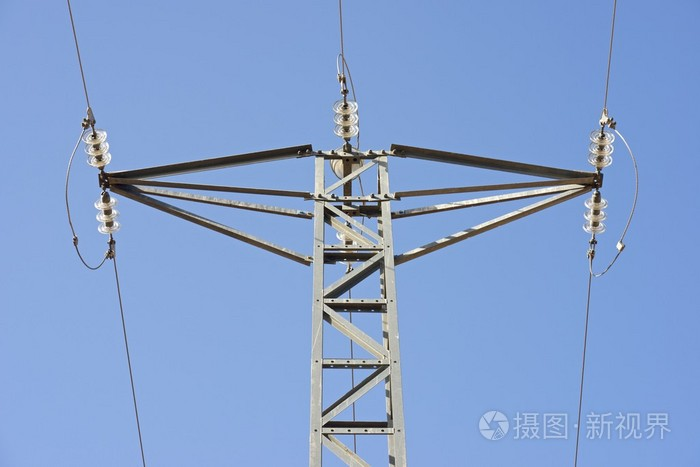insulator: (93, 196, 124, 235), (588, 128, 617, 169), (80, 130, 112, 167), (581, 195, 610, 235), (333, 97, 359, 138)
